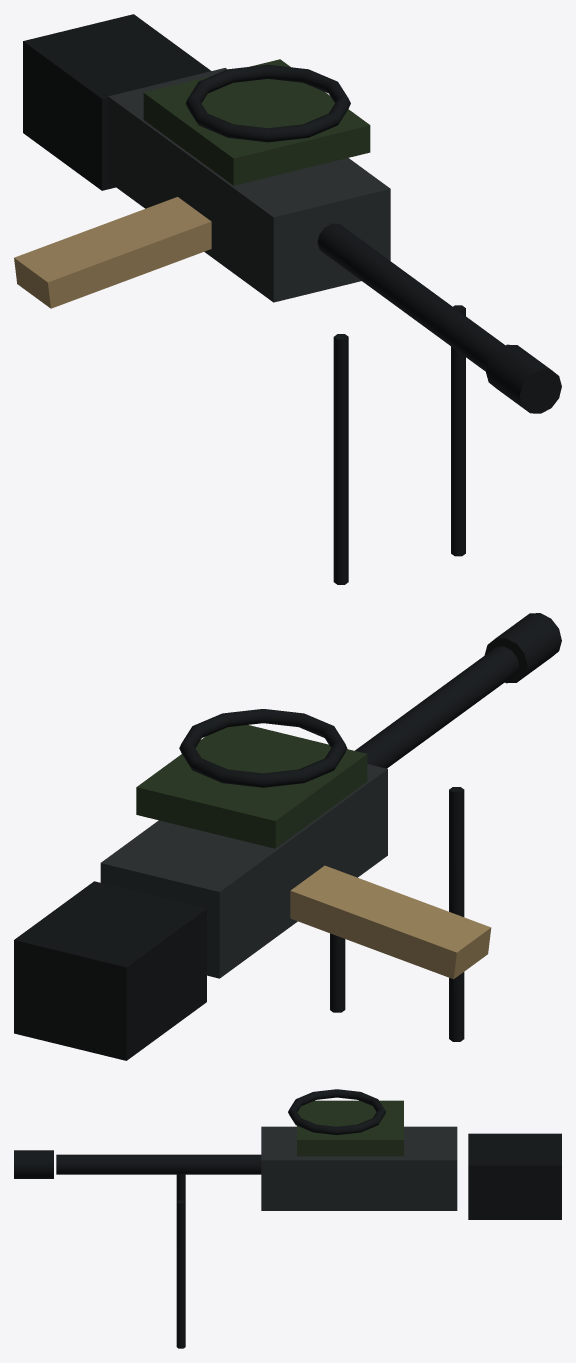
File: m60-machine-gun.glb
The picture shows the model from 3 angles, top to bottom: view 1: azimuth 30°, elevation 25°; view 2: azimuth 150°, elevation 25°; view 3: azimuth 270°, elevation 25°; orthographic projection. The views are drawn at different scales.
Visible parts, largest first — view 1: body, stock, feedCover, ammoBelt, barrel, carryHandle, bipodLegRight, muzzle, bipodLegLeft; view 2: stock, body, feedCover, ammoBelt, barrel, carryHandle, bipodLegRight, muzzle, bipodLegLeft; view 3: body, stock, feedCover, barrel, carryHandle, bipodLegLeft, muzzle.
Part boxes in pixels (x1,y1,x2,y2): body: (108, 68, 390, 302); stock: (23, 14, 210, 190); feedCover: (143, 59, 370, 185); ammoBelt: (14, 197, 211, 308); barrel: (317, 223, 505, 371); carryHandle: (185, 64, 350, 142); bipodLegRight: (333, 334, 348, 584); muzzle: (486, 344, 561, 413); bipodLegLeft: (451, 305, 465, 556); stock: (14, 881, 206, 1060); body: (100, 764, 387, 978); feedCover: (136, 725, 367, 848); ammoBelt: (290, 865, 491, 979); barrel: (355, 646, 518, 768); carryHandle: (179, 709, 347, 787); bipodLegRight: (449, 787, 464, 1041); muzzle: (484, 613, 561, 683); bipodLegLeft: (330, 933, 345, 1012); body: (261, 1126, 457, 1210); stock: (468, 1133, 561, 1219); feedCover: (297, 1100, 403, 1156); barrel: (56, 1154, 261, 1174); carryHandle: (288, 1089, 385, 1134); bipodLegLeft: (176, 1200, 185, 1348); muzzle: (14, 1150, 53, 1178).
Size of the model in its own units: 0.9029 by 1.1 by 2.46.
